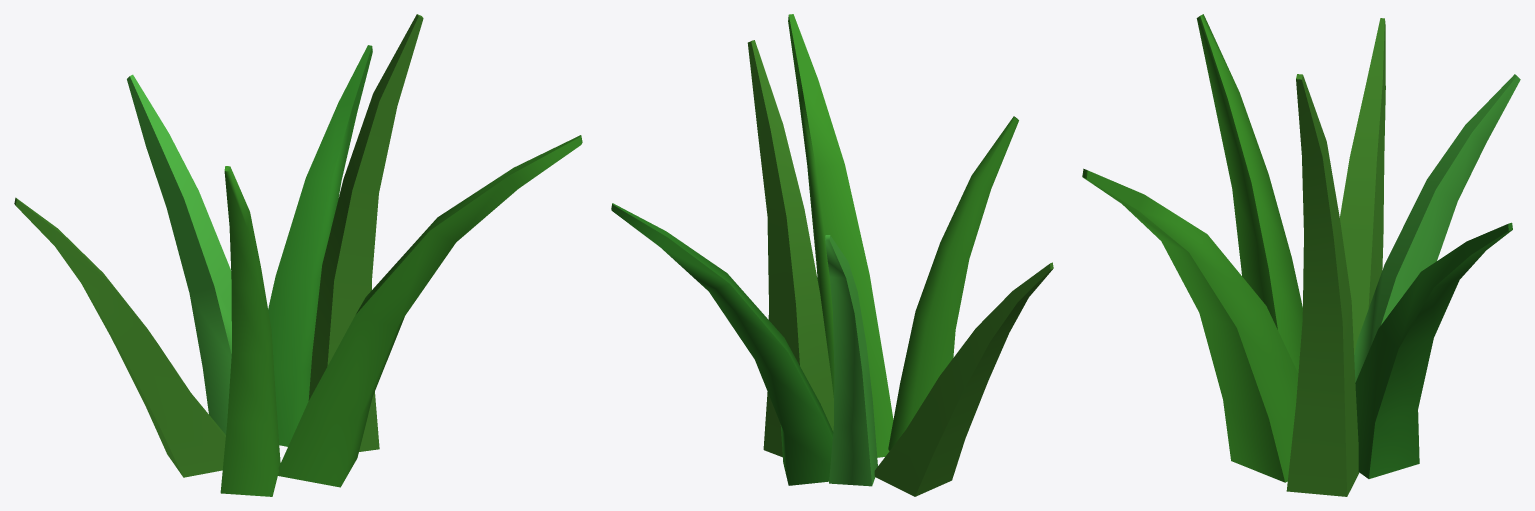
The model's file is Grass_DarkGreen_2.fbx.
The picture shows the model from 3 angles, left to right: view 1: azimuth 30°, elevation 25°; view 2: azimuth 150°, elevation 25°; view 3: azimuth 270°, elevation 25°; orthographic projection. The views are drawn at different scales.
Parts seen in each view (by area): view 1: Cube.385, Cube.388, Cube.387, Cube.384, Cube.389, Cube.386; view 2: Cube.387, Cube.385, Cube.388, Cube.386, Cube.384, Cube.389; view 3: Cube.385, Cube.387, Cube.388, Cube.384, Cube.389, Cube.386.
Boxes of the visible parts, bbox=[...] form: Cube.385: bbox=[278, 135, 582, 487]; Cube.388: bbox=[268, 45, 372, 446]; Cube.387: bbox=[308, 14, 423, 451]; Cube.384: bbox=[220, 166, 280, 496]; Cube.389: bbox=[127, 74, 231, 434]; Cube.386: bbox=[14, 197, 225, 477]; Cube.387: bbox=[747, 40, 833, 457]; Cube.385: bbox=[788, 14, 893, 457]; Cube.388: bbox=[611, 203, 833, 485]; Cube.386: bbox=[874, 262, 1053, 496]; Cube.384: bbox=[888, 116, 1018, 450]; Cube.389: bbox=[825, 235, 877, 486]; Cube.385: bbox=[1082, 168, 1298, 482]; Cube.387: bbox=[1286, 74, 1359, 496]; Cube.388: bbox=[1355, 222, 1512, 478]; Cube.384: bbox=[1196, 14, 1302, 372]; Cube.389: bbox=[1354, 74, 1520, 382]; Cube.386: bbox=[1340, 18, 1385, 353].
Size of the model in its own units: 114 by 108 by 96.77.
